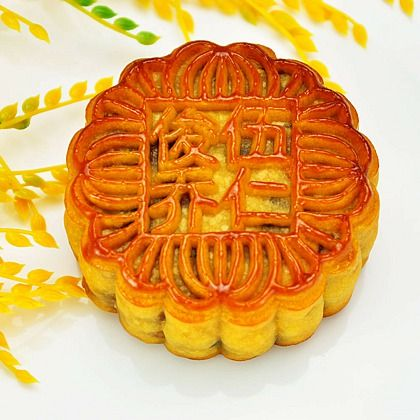MoonCake: (63, 41, 381, 359)
